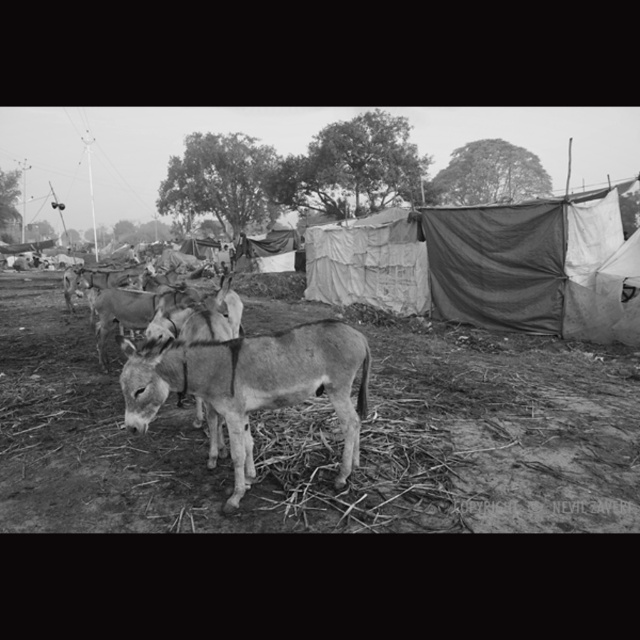Mule: (117, 319, 371, 515), (61, 267, 245, 466)
